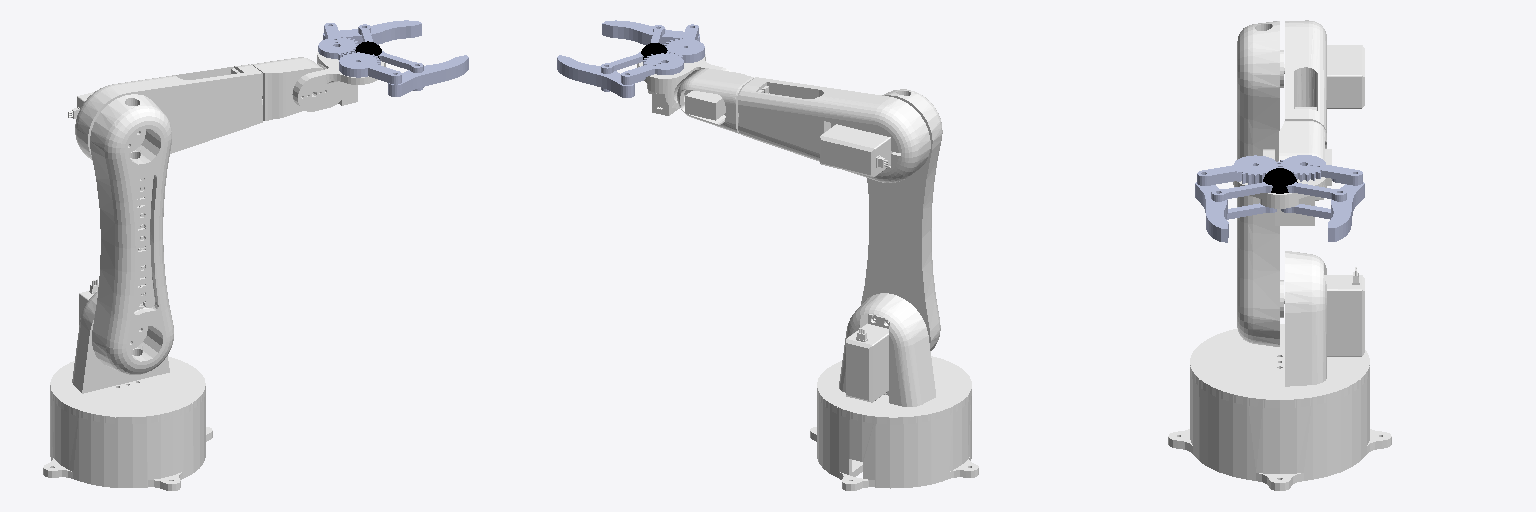
The robot description file, URDF, robot "astra_arm_urdf":

<!-- This URDF was automatically created by SolidWorks to URDF Exporter! Originally created by [author] ([email redacted]) 
     Commit Version: 1.6.0-4-g7f85cfe  Build Version: 1.6.7995.38578
     For more information, please see http://wiki.ros.org/sw_urdf_exporter -->
<robot
  name="astra_arm_urdf">
  <link
    name="base_link">
    <inertial>
      <origin
        xyz="-3.0844E-05 0.0011838 0.039113"
        rpy="0 0 0" />
      <mass
        value="0.21715" />
      <inertia
        ixx="0.00019989"
        ixy="9.7824E-08"
        ixz="-7.7943E-08"
        iyy="0.00019779"
        iyz="-6.6812E-06"
        izz="0.00027306" />
    </inertial>
    <visual>
      <origin
        xyz="0 0 0"
        rpy="0 0 0" />
      <geometry>
        <mesh
          filename="package://astra_arm_urdf/meshes/base_link.STL" />
      </geometry>
      <material
        name="">
        <color
          rgba="1 1 1 1" />
      </material>
    </visual>
    <collision>
      <origin
        xyz="0 0 0"
        rpy="0 0 0" />
      <geometry>
        <mesh
          filename="package://astra_arm_urdf/meshes/base_link.STL" />
      </geometry>
    </collision>
  </link>
  <link
    name="shoulder_link">
    <inertial>
      <origin
        xyz="-7.5006E-08 0.012535 0.018361"
        rpy="0 0 0" />
      <mass
        value="0.1236" />
      <inertia
        ixx="7.651E-05"
        ixy="2.7779E-10"
        ixz="6.6766E-11"
        iyy="8.3288E-05"
        iyz="-7.6888E-06"
        izz="7.654E-05" />
    </inertial>
    <visual>
      <origin
        xyz="0 0 0"
        rpy="0 0 0" />
      <geometry>
        <mesh
          filename="package://astra_arm_urdf/meshes/shoulder_link.STL" />
      </geometry>
      <material
        name="">
        <color
          rgba="1 1 1 1" />
      </material>
    </visual>
    <collision>
      <origin
        xyz="0 0 0"
        rpy="0 0 0" />
      <geometry>
        <mesh
          filename="package://astra_arm_urdf/meshes/shoulder_link.STL" />
      </geometry>
    </collision>
  </link>
  <joint
    name="shoulder_joint"
    type="revolute">
    <origin
      xyz="0 0 0.050402"
      rpy="0 0 0" />
    <parent
      link="base_link" />
    <child
      link="shoulder_link" />
    <axis
      xyz="0 0 1" />
    <limit
      lower="-1.57"
      upper="1.57"
      effort="10.5"
      velocity="1.5" />
  </joint>
  <link
    name="upperarm_link">
    <inertial>
      <origin
        xyz="-0.00071200472275261 -0.00630711901343494 0.0699991316734542"
        rpy="0 0 0" />
      <mass
        value="0.137956897450908" />
      <inertia
        ixx="0.000412802425063208"
        ixy="-1.54156023193904E-09"
        ixz="3.8766709137467E-06"
        iyy="0.000431598972020417"
        iyz="2.53724770389783E-09"
        izz="3.08732568954117E-05" />
    </inertial>
    <visual>
      <origin
        xyz="0 0 0"
        rpy="0 0 0" />
      <geometry>
        <mesh
          filename="package://astra_arm_urdf/meshes/upperarm_link.STL" />
      </geometry>
      <material
        name="">
        <color
          rgba="1 1 1 1" />
      </material>
    </visual>
    <collision>
      <origin
        xyz="0 0 0"
        rpy="0 0 0" />
      <geometry>
        <mesh
          filename="package://astra_arm_urdf/meshes/upperarm_link.STL" />
      </geometry>
    </collision>
  </link>
  <joint
    name="upperarm_joint"
    type="revolute">
    <origin
      xyz="0 -0.004 0.03855"
      rpy="0 0 0" />
    <parent
      link="shoulder_link" />
    <child
      link="upperarm_link" />
    <axis
      xyz="0 -1 0" />
    <limit
      lower="-1.57"
      upper="1.57"
      effort="10.5"
      velocity="1.5" />
  </joint>
  <link
    name="elbow_link">
    <inertial>
      <origin
        xyz="0.0282843572655019 0.0171086319271421 4.09041417300804E-05"
        rpy="0 0 0" />
      <mass
        value="0.122761924125554" />
      <inertia
        ixx="2.77007139666344E-05"
        ixy="-5.07725389371186E-07"
        ixz="-2.24351129067317E-07"
        iyy="0.000127148823996402"
        iyz="-9.22811188709359E-09"
        izz="0.000117815411609115" />
    </inertial>
    <visual>
      <origin
        xyz="0 0 0"
        rpy="0 0 0" />
      <geometry>
        <mesh
          filename="package://astra_arm_urdf/meshes/elbow_link.STL" />
      </geometry>
      <material
        name="">
        <color
          rgba="1 1 1 1" />
      </material>
    </visual>
    <collision>
      <origin
        xyz="0 0 0"
        rpy="0 0 0" />
      <geometry>
        <mesh
          filename="package://astra_arm_urdf/meshes/elbow_link.STL" />
      </geometry>
    </collision>
  </link>
  <joint
    name="elbow_joint"
    type="revolute">
    <origin
      xyz="-0.0014208 0.004 0.13999"
      rpy="0 0 0" />
    <parent
      link="upperarm_link" />
    <child
      link="elbow_link" />
    <axis
      xyz="0 1 0" />
    <limit
      lower="-1.57"
      upper="1.57"
      effort="10.5"
      velocity="1.5" />
  </joint>
  <link
    name="wrist_link">
    <inertial>
      <origin
        xyz="0.0198135251298725 -0.00246462048019954 0.00507245140955276"
        rpy="0 0 0" />
      <mass
        value="0.0275804642723953" />
      <inertia
        ixx="3.41874740135694E-06"
        ixy="4.2796701405099E-07"
        ixz="-1.12001078956333E-08"
        iyy="6.50091950101727E-06"
        iyz="3.16684120748777E-09"
        izz="5.80153585835653E-06" />
    </inertial>
    <visual>
      <origin
        xyz="0 0 0"
        rpy="0 0 0" />
      <geometry>
        <mesh
          filename="package://astra_arm_urdf/meshes/wrist_link.STL" />
      </geometry>
      <material
        name="">
        <color
          rgba="1 1 1 1" />
      </material>
    </visual>
    <collision>
      <origin
        xyz="0 0 0"
        rpy="0 0 0" />
      <geometry>
        <mesh
          filename="package://astra_arm_urdf/meshes/wrist_link.STL" />
      </geometry>
    </collision>
  </link>
  <joint
    name="wrist_joint"
    type="revolute">
    <origin
      xyz="0.1057 0.01435 -0.0051"
      rpy="0 0 0" />
    <parent
      link="elbow_link" />
    <child
      link="wrist_link" />
    <axis
      xyz="-1 0 0" />
    <limit
      lower="-1.57"
      upper="1.57"
      effort="10.5"
      velocity="1.5" />
  </joint>
  <link
    name="extra_wrist_link">
    <inertial>
      <origin
        xyz="0.026279391293826 0.00464184436766784 0.00206186061675007"
        rpy="0 0 0" />
      <mass
        value="0.022704688254789" />
      <inertia
        ixx="3.29041243163955E-06"
        ixy="-5.46124141762122E-07"
        ixz="-8.30851199579705E-07"
        iyy="5.33636886986773E-06"
        iyz="-4.65500232236995E-08"
        izz="6.67442856376792E-06" />
    </inertial>
    <visual>
      <origin
        xyz="0 0 0"
        rpy="0 0 0" />
      <geometry>
        <mesh
          filename="package://astra_arm_urdf/meshes/extra_wrist_link.STL" />
      </geometry>
      <material
        name="">
        <color
          rgba="1 1 1 1" />
      </material>
    </visual>
    <collision>
      <origin
        xyz="0 0 0"
        rpy="0 0 0" />
      <geometry>
        <mesh
          filename="package://astra_arm_urdf/meshes/extra_wrist_link.STL" />
      </geometry>
    </collision>
  </link>
  <joint
    name="extra_wrist_joint"
    type="revolute">
    <origin
      xyz="0.0284 -0.01685 0.0051"
      rpy="0 0 0" />
    <parent
      link="wrist_link" />
    <child
      link="extra_wrist_link" />
    <axis
      xyz="0 1 0" />
    <limit
      lower="-1.57"
      upper="1.57"
      effort="10.5"
      velocity="1.5" />
  </joint>
  <link
    name="ee_link">
    <inertial>
      <origin
        xyz="0.00953691100054797 -0.00112665248045042 -0.00173305637141519"
        rpy="0 0 0" />
      <mass
        value="0.0207769023885776" />
      <inertia
        ixx="1.52137549218193E-06"
        ixy="7.28750022633995E-08"
        ixz="4.58227526413929E-09"
        iyy="3.70972054244846E-06"
        iyz="1.23065627283132E-08"
        izz="5.05779076843232E-06" />
    </inertial>
    <visual>
      <origin
        xyz="0 0 0"
        rpy="0 0 0" />
      <geometry>
        <mesh
          filename="package://astra_arm_urdf/meshes/ee_link.STL" />
      </geometry>
      <material
        name="">
        <color
          rgba="0.792156862745098 0.819607843137255 0.933333333333333 1" />
      </material>
    </visual>
    <collision>
      <origin
        xyz="0 0 0"
        rpy="0 0 0" />
      <geometry>
        <mesh
          filename="package://astra_arm_urdf/meshes/ee_link.STL" />
      </geometry>
    </collision>
  </link>
  <joint
    name="ee_joint"
    type="fixed">
    <origin
      xyz="0.045444 0.0025 0.012135"
      rpy="0 0 0" />
    <parent
      link="extra_wrist_link" />
    <child
      link="ee_link" />
    <axis
      xyz="0 0 0" />
    <limit
      lower="0.5"
      upper="0.5"
      effort="10.5"
      velocity="1.5" />
  </joint>
    <link name="ee_rotation_x">
    <inertial>
      <origin xyz="0 0 0" rpy="0 0 0"/>
      <mass value="0.001"/>
      <inertia ixx="1e-6" ixy="0" ixz="0" iyy="1e-6" iyz="0" izz="1e-6"/>
    </inertial>
    <visual>
      <origin xyz="0 0 0" rpy="0 0 0"/>
      <geometry>
        <sphere radius="0.01"/>
      </geometry>
      <material name="black">
        <color rgba="0 0 0 1"/>
      </material>
    </visual>
  </link>

  <joint name="ee_rotation_joint_x" type="continuous">
    <origin xyz="0 0 0" rpy="0 0 0"/>
    <parent link="ee_link"/>
    <child link="ee_rotation_x"/>
    <axis xyz="1 0 0"/>
  </joint>

  <link name="ee_rotation_y">
    <inertial>
      <origin xyz="0 0 0" rpy="0 0 0"/>
      <mass value="0.001"/>
      <inertia ixx="1e-6" ixy="0" ixz="0" iyy="1e-6" iyz="0" izz="1e-6"/>
    </inertial>
    <visual>
      <origin xyz="0 0 0" rpy="0 0 0"/>
      <geometry>
        <sphere radius="0.01"/>
      </geometry>
      <material name="black">
        <color rgba="0 0 0 1"/>
      </material>
    </visual>
  </link>

  <joint name="ee_rotation_joint_y" type="continuous">
    <origin xyz="0 0 0" rpy="0 0 0"/>
    <parent link="ee_rotation_x"/>
    <child link="ee_rotation_y"/>
    <axis xyz="0 1 0"/>
  </joint>

  <link name="ee_rotation_z">
    <inertial>
      <origin xyz="0 0 0" rpy="0 0 0"/>
      <mass value="0.001"/>
      <inertia ixx="1e-6" ixy="0" ixz="0" iyy="1e-6" iyz="0" izz="1e-6"/>
    </inertial>
    <visual>
      <origin xyz="0 0 0" rpy="0 0 0"/>
      <geometry>
        <sphere radius="0.01"/>
      </geometry>
      <material name="black">
        <color rgba="0 0 0 1"/>
      </material>
    </visual>
  </link>

  <joint name="ee_rotation_joint_z" type="continuous">
    <origin xyz="0 0 0" rpy="0 0 0"/>
    <parent link="ee_rotation_y"/>
    <child link="ee_rotation_z"/>
    <axis xyz="0 0 1"/>
  </joint>

</robot>

--- Facts derived from the render (not from the file) ---
3 views of the same robot in one strip: view 1: azimuth 30°, elevation 25°; view 2: azimuth 150°, elevation 25°; view 3: azimuth 270°, elevation 25° (orthographic).
Robot: astra_arm_urdf — 10 links, 9 joints (5 revolute, 3 continuous, 1 fixed); root link base_link; default pose: all joints at 0.
Visible links, largest first — view 1: upperarm_link, base_link, elbow_link, shoulder_link, ee_link, extra_wrist_link, wrist_link; view 2: elbow_link, shoulder_link, base_link, upperarm_link, ee_link, wrist_link, extra_wrist_link; view 3: shoulder_link, base_link, upperarm_link, ee_link, elbow_link, wrist_link, extra_wrist_link, ee_rotation_x.
Link boxes in pixels (bbox=[...]): upperarm_link: bbox=[90, 94, 173, 374]; base_link: bbox=[43, 320, 212, 490]; elbow_link: bbox=[68, 64, 262, 160]; shoulder_link: bbox=[50, 279, 205, 423]; ee_link: bbox=[318, 20, 468, 96]; extra_wrist_link: bbox=[292, 52, 385, 111]; wrist_link: bbox=[251, 57, 323, 120]; elbow_link: bbox=[738, 77, 930, 182]; shoulder_link: bbox=[817, 293, 971, 424]; base_link: bbox=[810, 314, 978, 490]; upperarm_link: bbox=[861, 89, 942, 350]; ee_link: bbox=[557, 20, 704, 97]; wrist_link: bbox=[677, 68, 753, 133]; extra_wrist_link: bbox=[637, 54, 730, 115]; shoulder_link: bbox=[1190, 251, 1369, 407]; base_link: bbox=[1168, 263, 1391, 490]; upperarm_link: bbox=[1237, 21, 1279, 346]; ee_link: bbox=[1195, 155, 1364, 242]; elbow_link: bbox=[1280, 20, 1364, 132]; wrist_link: bbox=[1279, 121, 1331, 185]; extra_wrist_link: bbox=[1233, 149, 1326, 225]; ee_rotation_x: bbox=[1263, 168, 1297, 193].
Bounding box of the posed robot: 0.296 × 0.124 × 0.2579 m (x, y, z).
Meshes: 7 distinct files referenced, 7 mesh visuals loaded (7 binary STL).